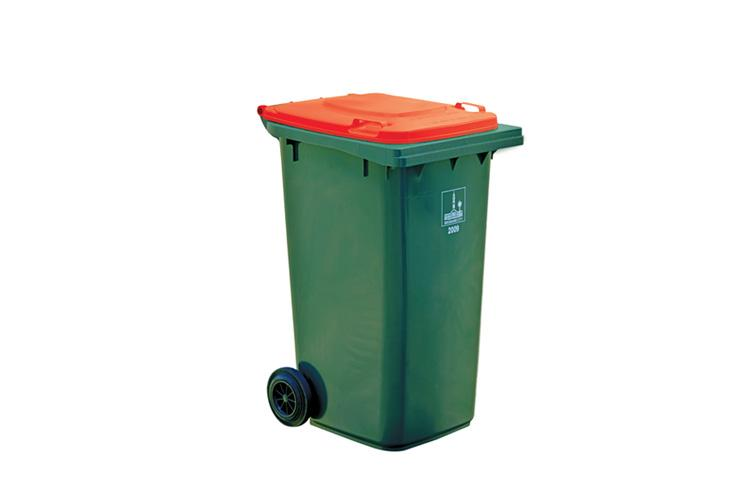trash bin: (254, 90, 530, 452)
